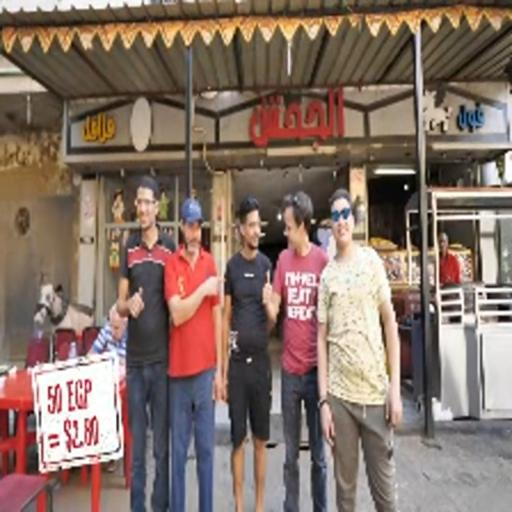nao-violencia: (100, 166, 414, 512)
